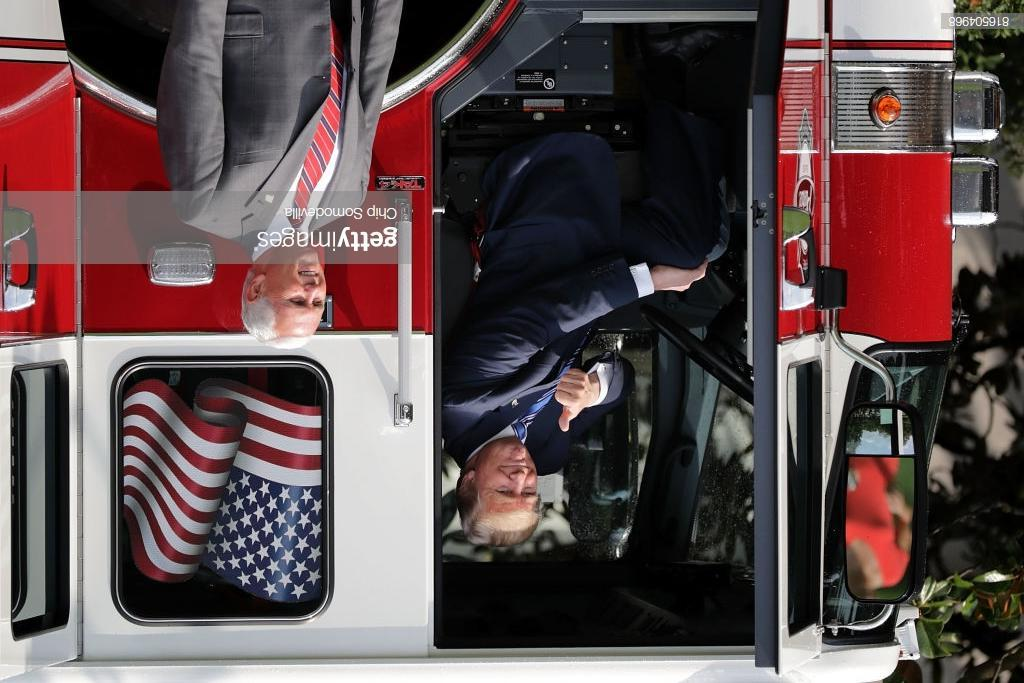thumbsdown: (555, 369, 588, 433)
